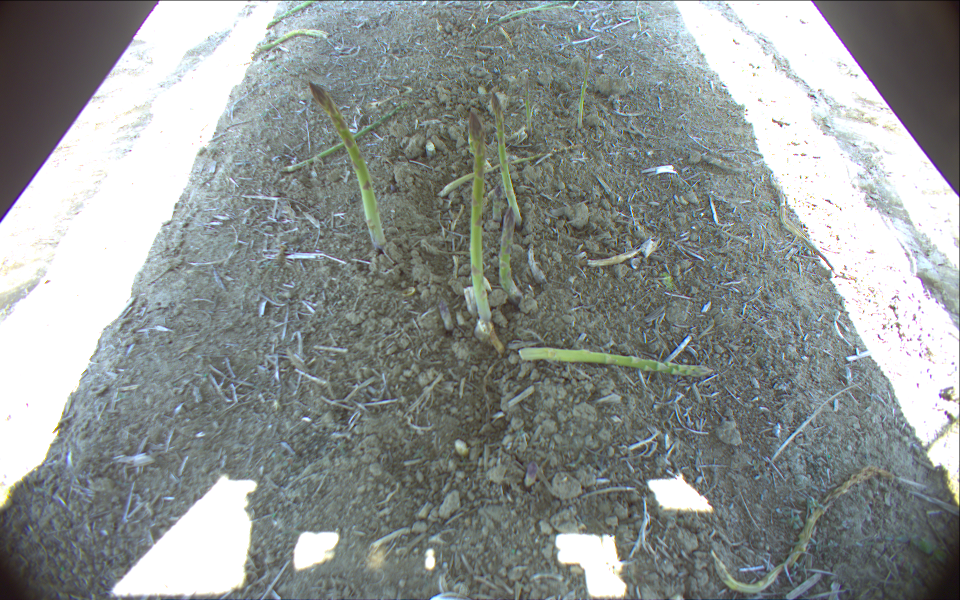aspa: (712, 466, 894, 595), (310, 84, 386, 248), (280, 103, 410, 175), (438, 143, 583, 198), (518, 345, 714, 379), (215, 28, 330, 81), (466, 113, 492, 325), (474, 1, 580, 46), (491, 91, 523, 228), (498, 208, 525, 303), (498, 1, 574, 21), (265, 1, 315, 29), (576, 45, 592, 127), (522, 80, 533, 134), (436, 298, 453, 330), (491, 185, 502, 224), (633, 1, 644, 31)
